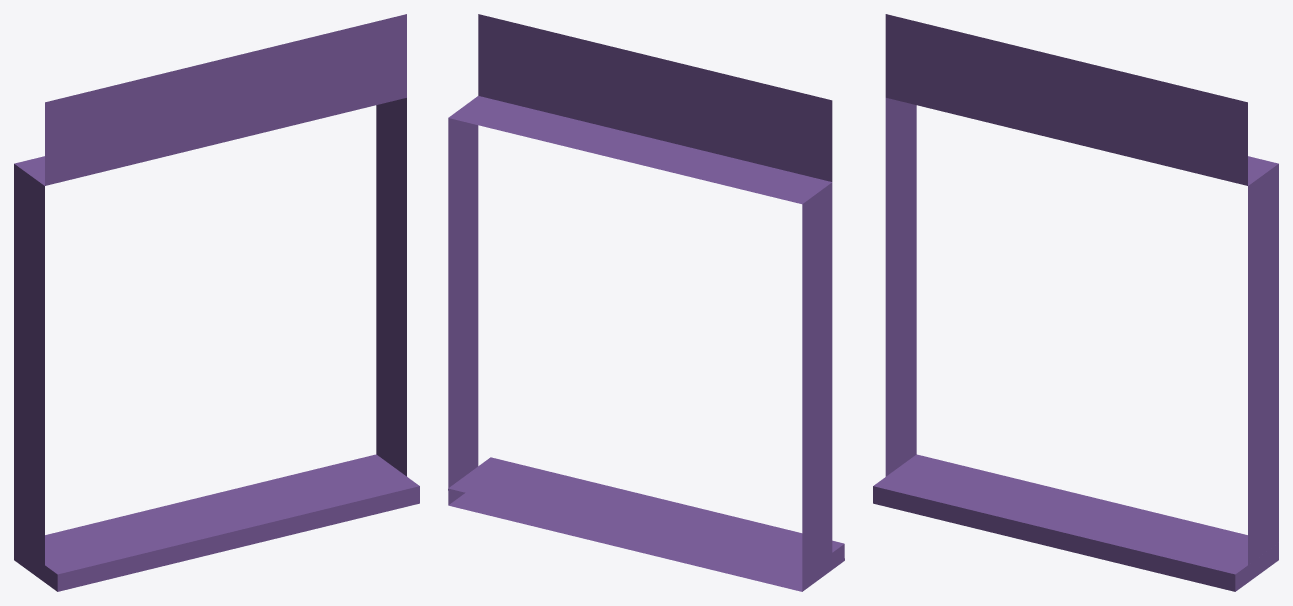
Rendered from Itr_Wall_Color_10(for_window).FBX.
3 views of the same model, side by side, from view 1: azimuth 30°, elevation 25°; view 2: azimuth 150°, elevation 25°; view 3: azimuth 330°, elevation 25° (orthographic). The views are drawn at different scales.
Visible parts, largest first — view 1: Itr_Wall_Color_10(for_window); view 2: Itr_Wall_Color_10(for_window); view 3: Itr_Wall_Color_10(for_window).
Part boxes in pixels (x1,y1,x2,y2): Itr_Wall_Color_10(for_window): (14, 14, 419, 591); Itr_Wall_Color_10(for_window): (448, 14, 844, 591); Itr_Wall_Color_10(for_window): (873, 14, 1278, 591).
Bounding box in the file's own units: 65.28 × 82.71 × 13.59.
